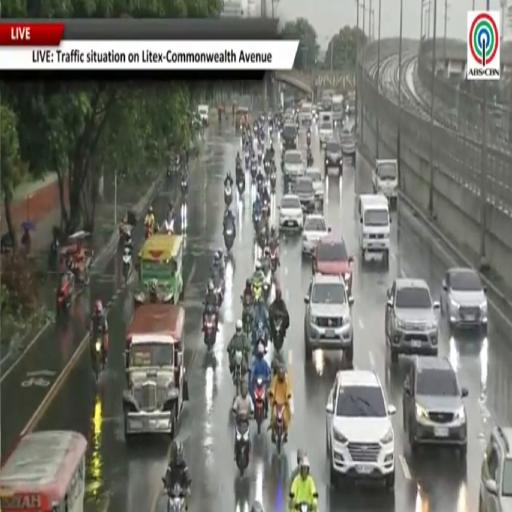car: (327, 371, 395, 490), (403, 357, 468, 458), (385, 278, 439, 362), (304, 275, 353, 361), (441, 268, 488, 330), (478, 427, 511, 511), (312, 236, 353, 295), (372, 159, 399, 210), (302, 214, 330, 254), (279, 195, 303, 230), (294, 176, 315, 213), (283, 150, 305, 182), (305, 168, 324, 204), (324, 138, 342, 175), (341, 122, 356, 161), (282, 121, 297, 151), (319, 121, 333, 149), (197, 103, 209, 126), (300, 103, 312, 123)
jeepney: (123, 303, 188, 440), (0, 430, 86, 511), (138, 234, 184, 303), (235, 107, 249, 131)
motorcycle: (236, 418, 250, 475), (73, 251, 94, 286), (57, 274, 74, 316), (254, 378, 266, 434), (203, 308, 217, 350), (273, 405, 284, 454), (167, 484, 186, 511), (93, 335, 103, 380), (233, 351, 243, 395), (262, 259, 272, 299), (273, 316, 284, 351), (242, 302, 253, 334), (48, 239, 59, 270), (122, 246, 131, 283), (224, 226, 235, 254), (215, 277, 224, 308), (270, 245, 278, 276), (252, 282, 263, 302), (224, 183, 232, 207), (294, 502, 313, 511), (237, 178, 245, 196), (270, 172, 276, 195), (263, 198, 270, 215), (181, 181, 188, 198), (254, 215, 261, 232), (145, 226, 154, 239), (251, 164, 257, 181), (307, 153, 314, 167), (264, 158, 270, 174), (245, 152, 250, 168), (307, 133, 311, 147), (269, 124, 273, 138), (258, 151, 262, 165)
